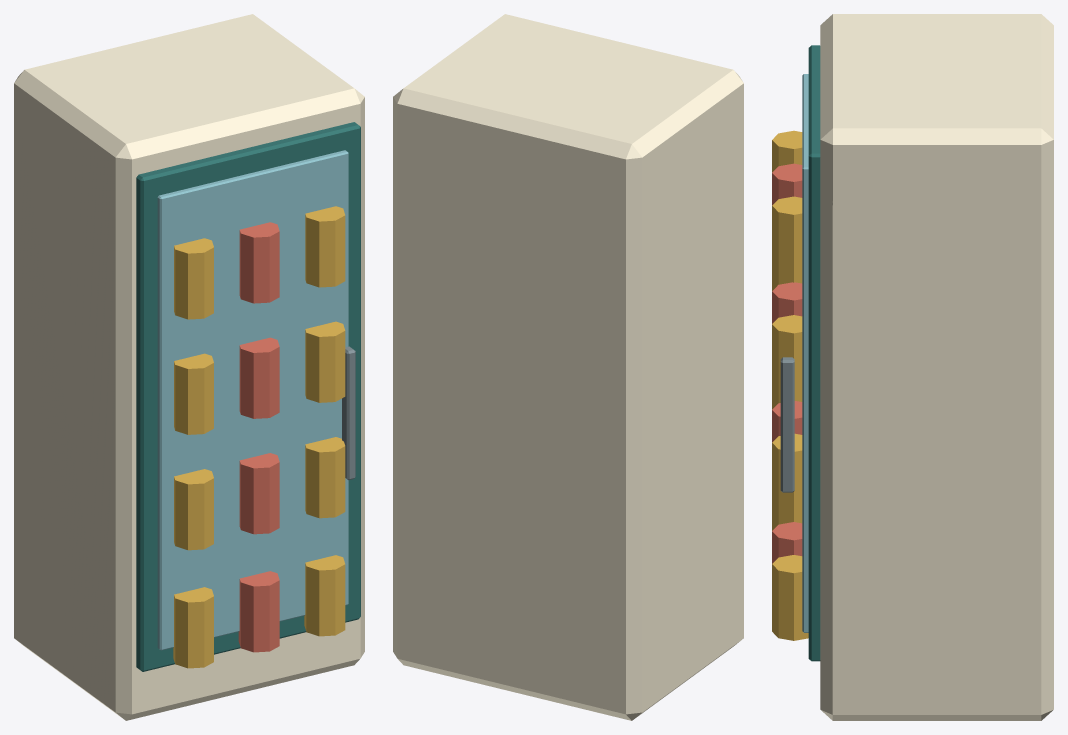
The model's file is Prop_Refrigerator.fbx.
The picture shows the model from 3 angles, left to right: view 1: azimuth 30°, elevation 25°; view 2: azimuth 150°, elevation 25°; view 3: azimuth 270°, elevation 25°; orthographic projection. The views are drawn at different scales.
Visible parts, largest first — view 1: Body.008, GlassDoor, DoorFrame, DrinkBottle.002, DrinkBottle.001, DrinkBottle.010, DrinkBottle.008, DrinkBottle.004, DrinkBottle.007, DrinkBottle.011, DrinkBottle.005, DrinkBottle (+4 smaller); view 2: Body.008; view 3: Body.008, DoorFrame, GlassDoor, DrinkBottle.002, DrinkBottle.011, Handle.003, DrinkBottle.008, DrinkBottle.005, DrinkBottle.009, DrinkBottle.001, DrinkBottle.010, DrinkBottle.007 (+1 smaller).
Boxes of the visible parts, left/top/right/bottom form: Body.008: left=14, top=14, right=364, bottom=720; GlassDoor: left=157, top=150, right=348, bottom=650; DoorFrame: left=136, top=122, right=360, bottom=671; DrinkBottle.002: left=304, top=555, right=345, bottom=636; DrinkBottle.001: left=238, top=571, right=279, bottom=652; DrinkBottle.010: left=239, top=222, right=279, bottom=303; DrinkBottle.008: left=305, top=321, right=345, bottom=402; DrinkBottle.004: left=239, top=453, right=279, bottom=534; DrinkBottle.007: left=239, top=337, right=279, bottom=418; DrinkBottle.011: left=305, top=206, right=345, bottom=287; DrinkBottle.005: left=305, top=437, right=345, bottom=518; DrinkBottle: left=173, top=587, right=213, bottom=668; Body.008: left=393, top=14, right=743, bottom=720; Body.008: left=820, top=14, right=1053, bottom=720; DoorFrame: left=808, top=45, right=820, bottom=661; GlassDoor: left=802, top=74, right=808, bottom=632; DrinkBottle.002: left=772, top=555, right=808, bottom=640; DrinkBottle.011: left=772, top=196, right=802, bottom=282; Handle.003: left=780, top=357, right=794, bottom=492; DrinkBottle.008: left=772, top=315, right=802, bottom=400; DrinkBottle.005: left=772, top=433, right=802, bottom=519; DrinkBottle.009: left=772, top=130, right=802, bottom=172; DrinkBottle.001: left=772, top=522, right=802, bottom=563; DrinkBottle.010: left=772, top=163, right=802, bottom=205; DrinkBottle.007: left=772, top=282, right=802, bottom=323.
Bounding box in the file's own units: 0.95 × 2.1 × 0.905.
